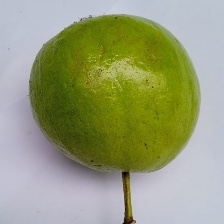guava: (8, 24, 209, 162)
